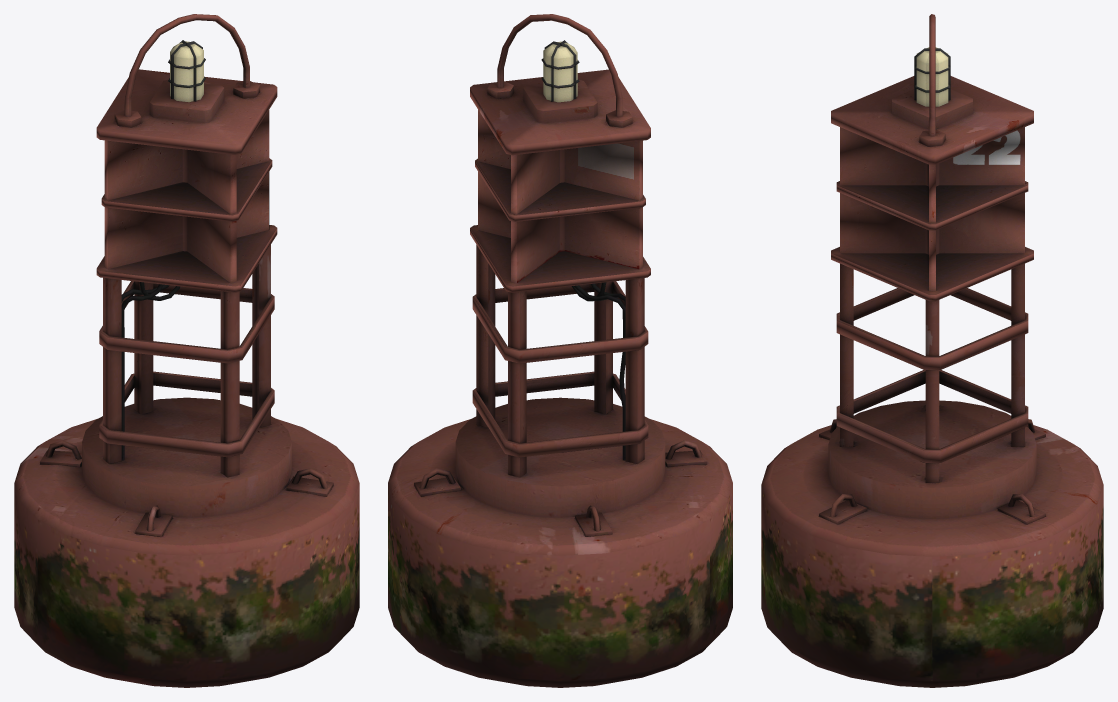
The model's file is buoy_ref.glb.
3 renders of one model, left to right at view 1: azimuth 30°, elevation 25°; view 2: azimuth 150°, elevation 25°; view 3: azimuth 270°, elevation 25°, orthographic.
Parts seen in each view (by area): view 1: buoy_ref; view 2: buoy_ref; view 3: buoy_ref.
Part boxes in pixels (x1,y1,x2,y2): buoy_ref: (14, 14, 359, 687); buoy_ref: (388, 14, 732, 687); buoy_ref: (761, 14, 1103, 687).
Bounding box in the file's own units: 0.8096 × 1.64 × 0.8096.
1 material, 1 textured.
